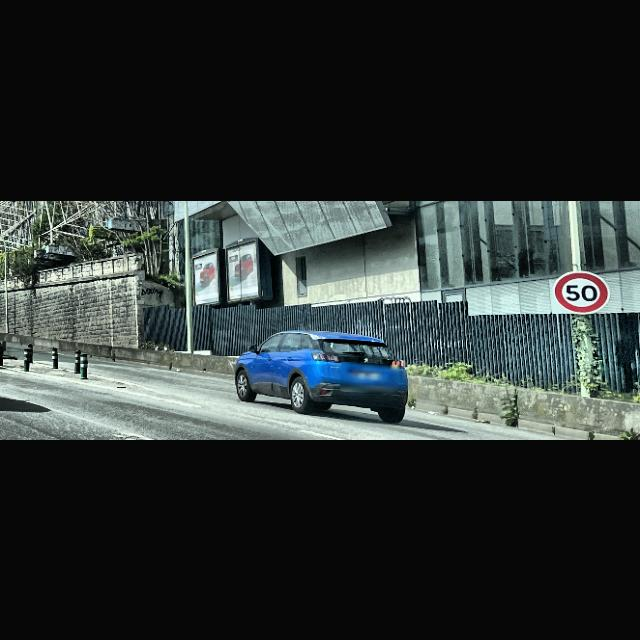speed_50: (554, 271, 610, 313)
